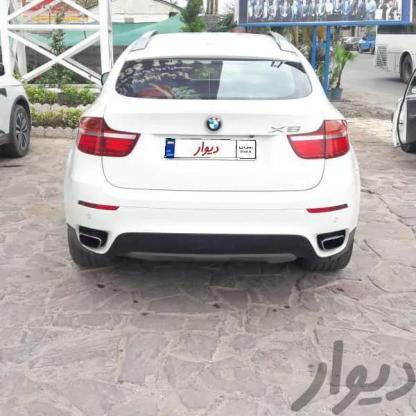Bus: (373, 22, 416, 82)
Car: (69, 29, 360, 323), (0, 54, 36, 158), (357, 30, 375, 55)
